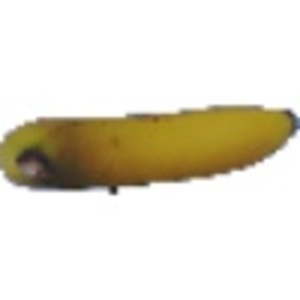banana: (3, 98, 292, 189)
